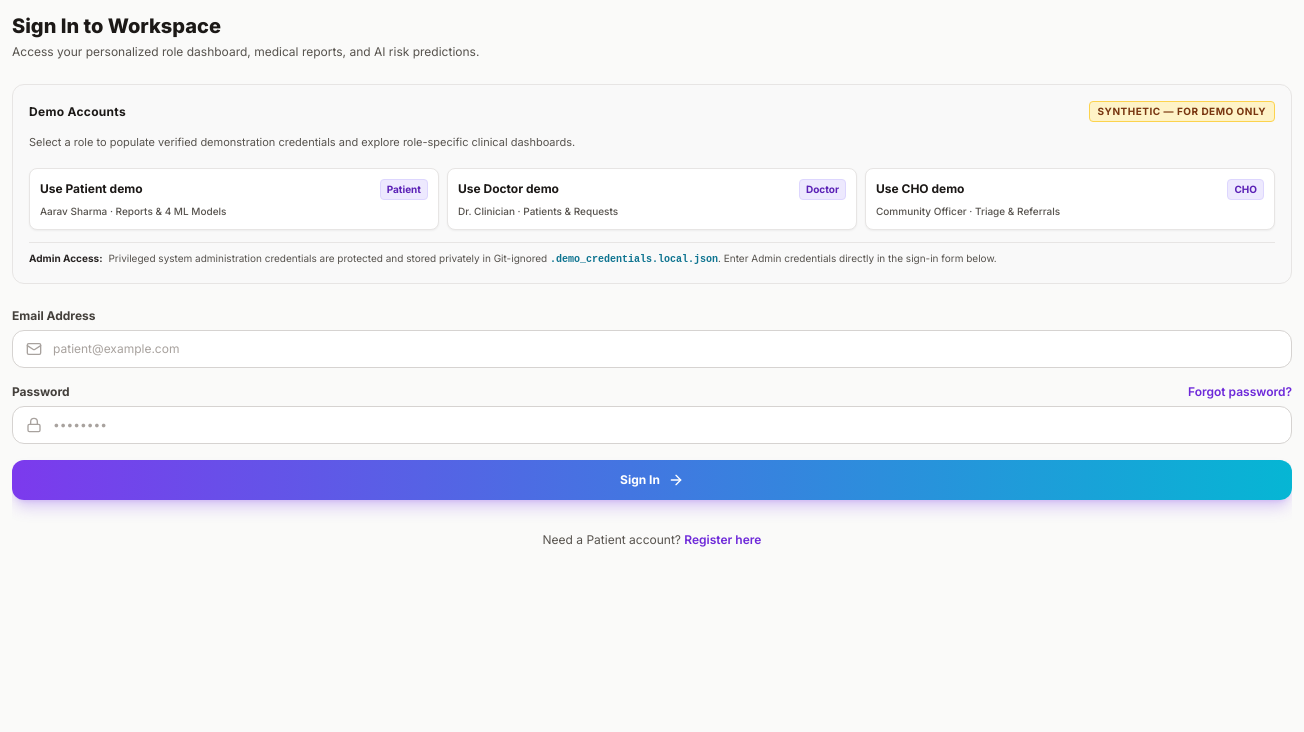
Test: Frontend Email Authentication & Password Recovery Suite › Login Component Verification Banner › displays email verification warning banner when login encounters EMAIL_NOT_VERIFIED
In the field with placeholder "patient@example.com": (652, 349) [12, 330, 1292, 368], type "unverified@example.com"
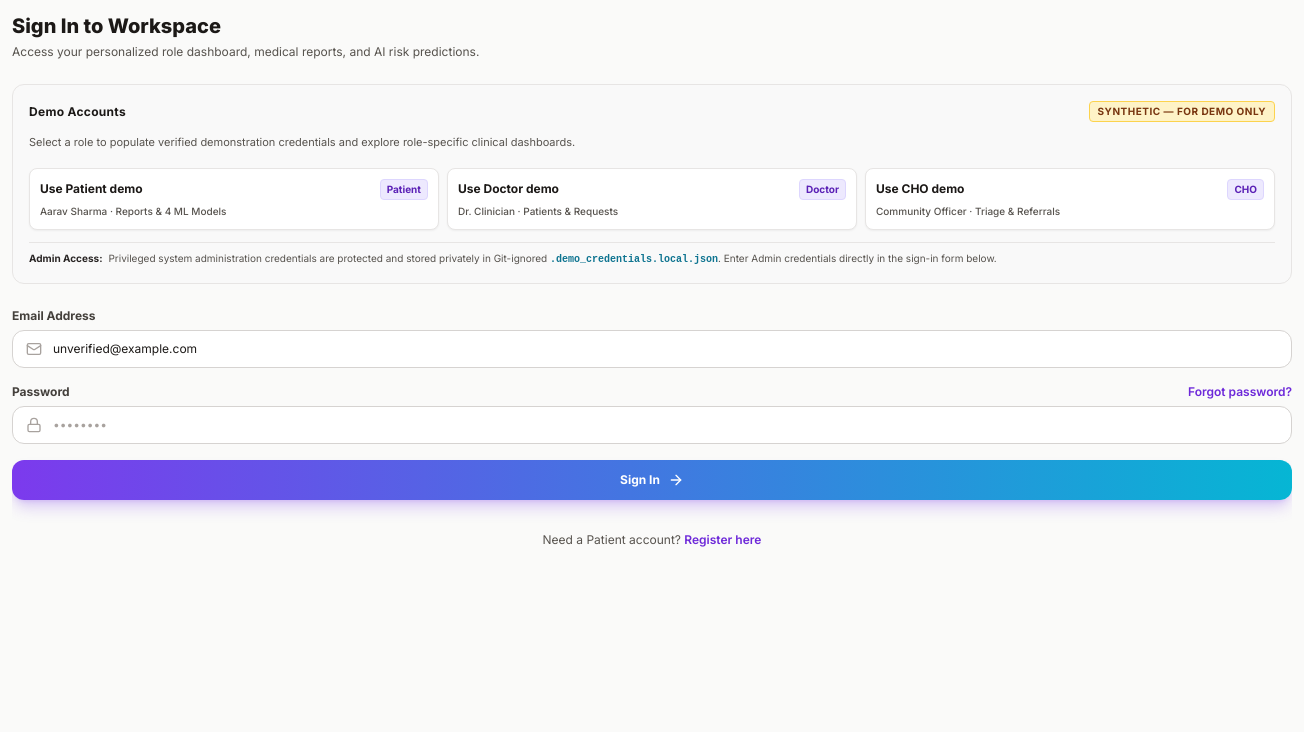
In the password field with placeholder "••••••••": (652, 425) [12, 406, 1292, 444], type "Password123!"
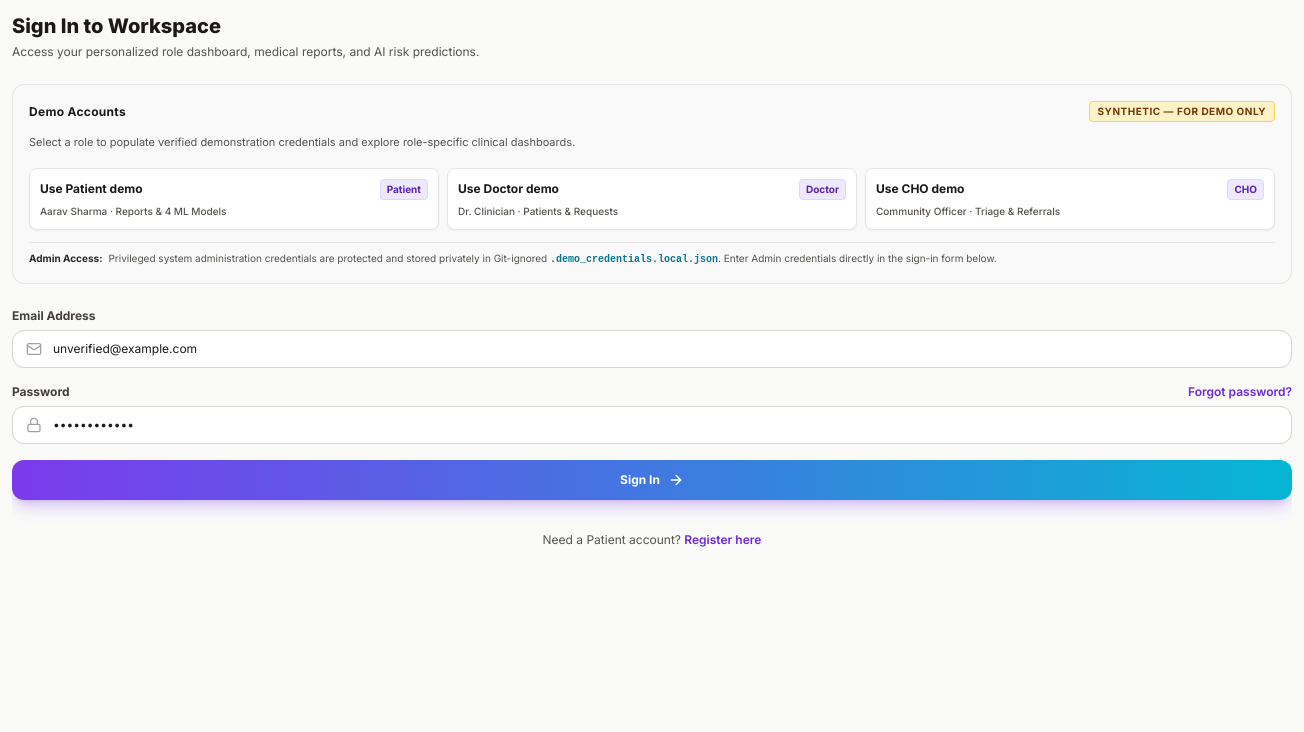
Click the button "Sign In": (652, 480) [12, 460, 1292, 500]
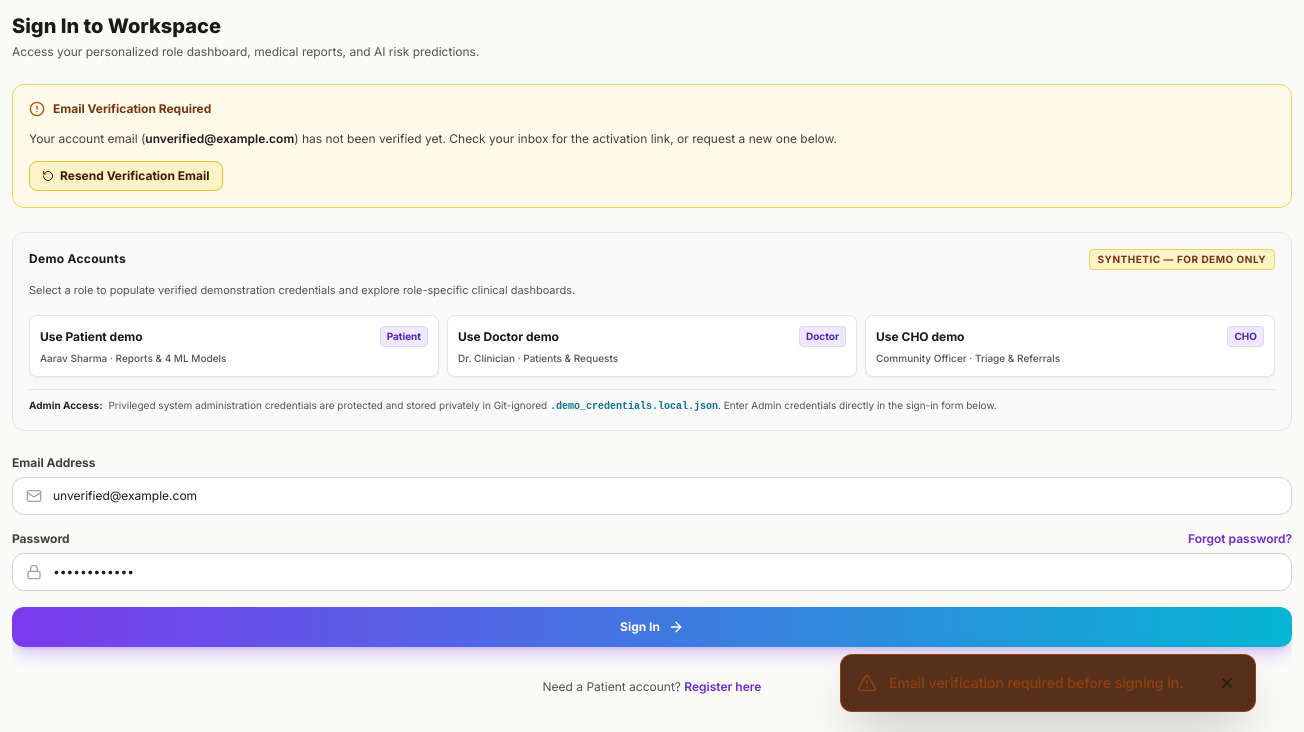
Now the text "Email Verification Required" is shown, box [53, 101, 211, 117]
Now the button "Resend Verification Email" is shown, box [29, 160, 222, 190]
